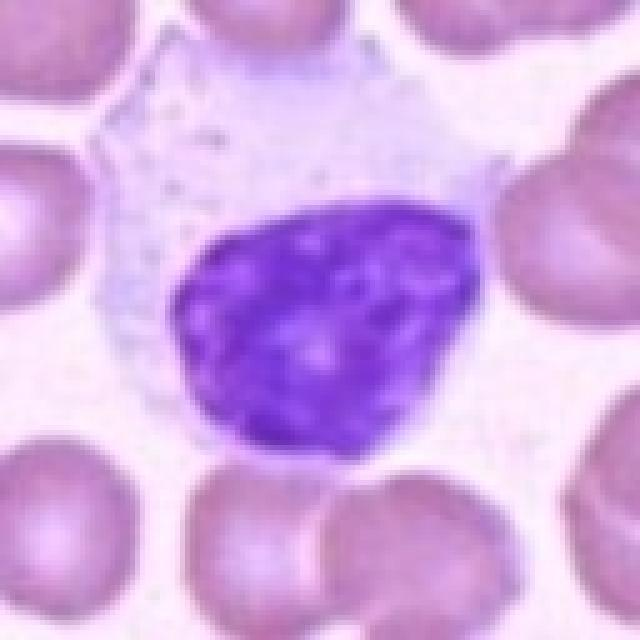lympho: (74, 13, 514, 468)
